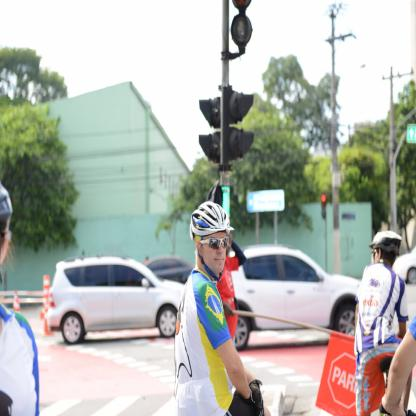Car: (231, 248, 364, 356), (43, 255, 190, 350), (146, 258, 195, 287), (393, 247, 416, 285)
